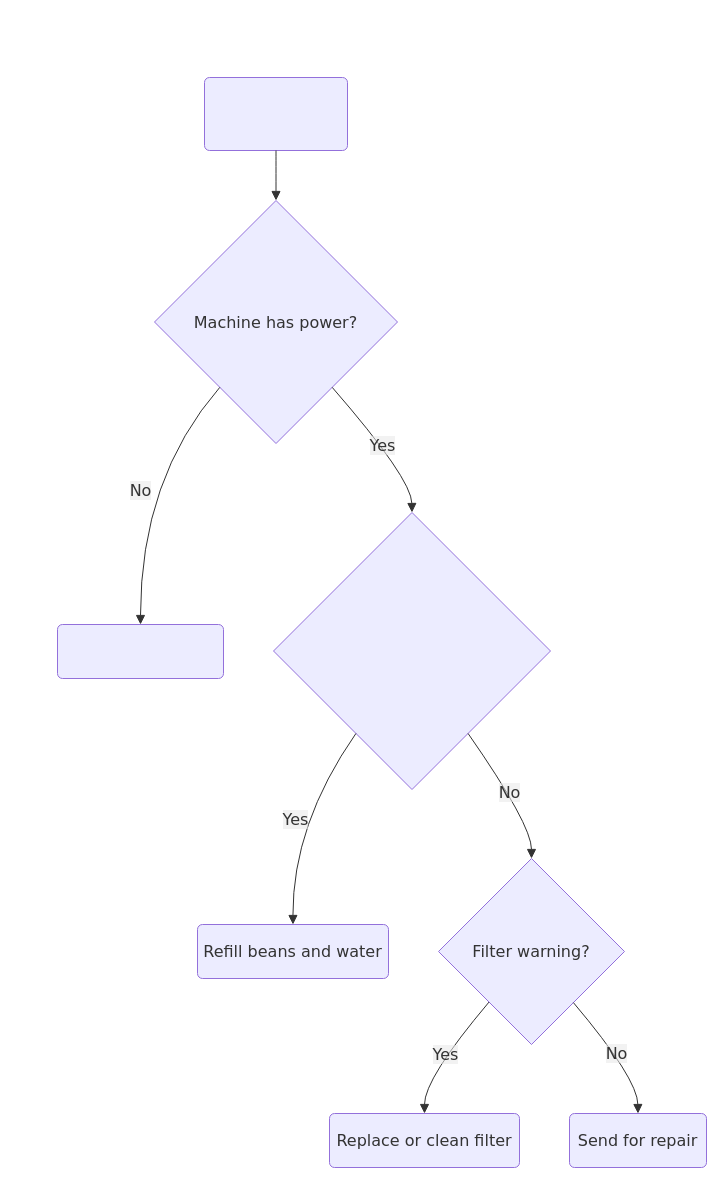
The diagram is 724 pixels wide and 1185 high, and some of its shapes have lost their labels. The centre of each missing label's shape, as x and y in pixels:
Coffee machine not working: the point at 276,113
Out of beans or water?: the point at 411,651
Plug in and turn on: the point at 140,651
